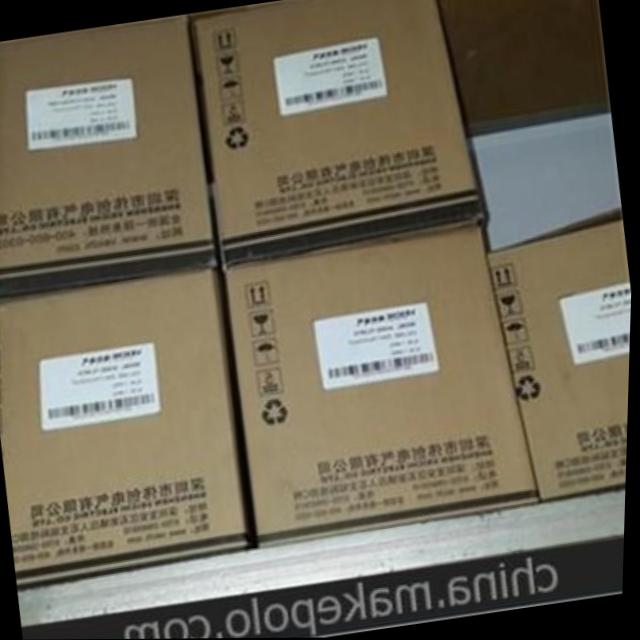box: (225, 224, 544, 548), (0, 269, 256, 592), (191, 0, 490, 268), (0, 14, 220, 298), (489, 205, 633, 505)
